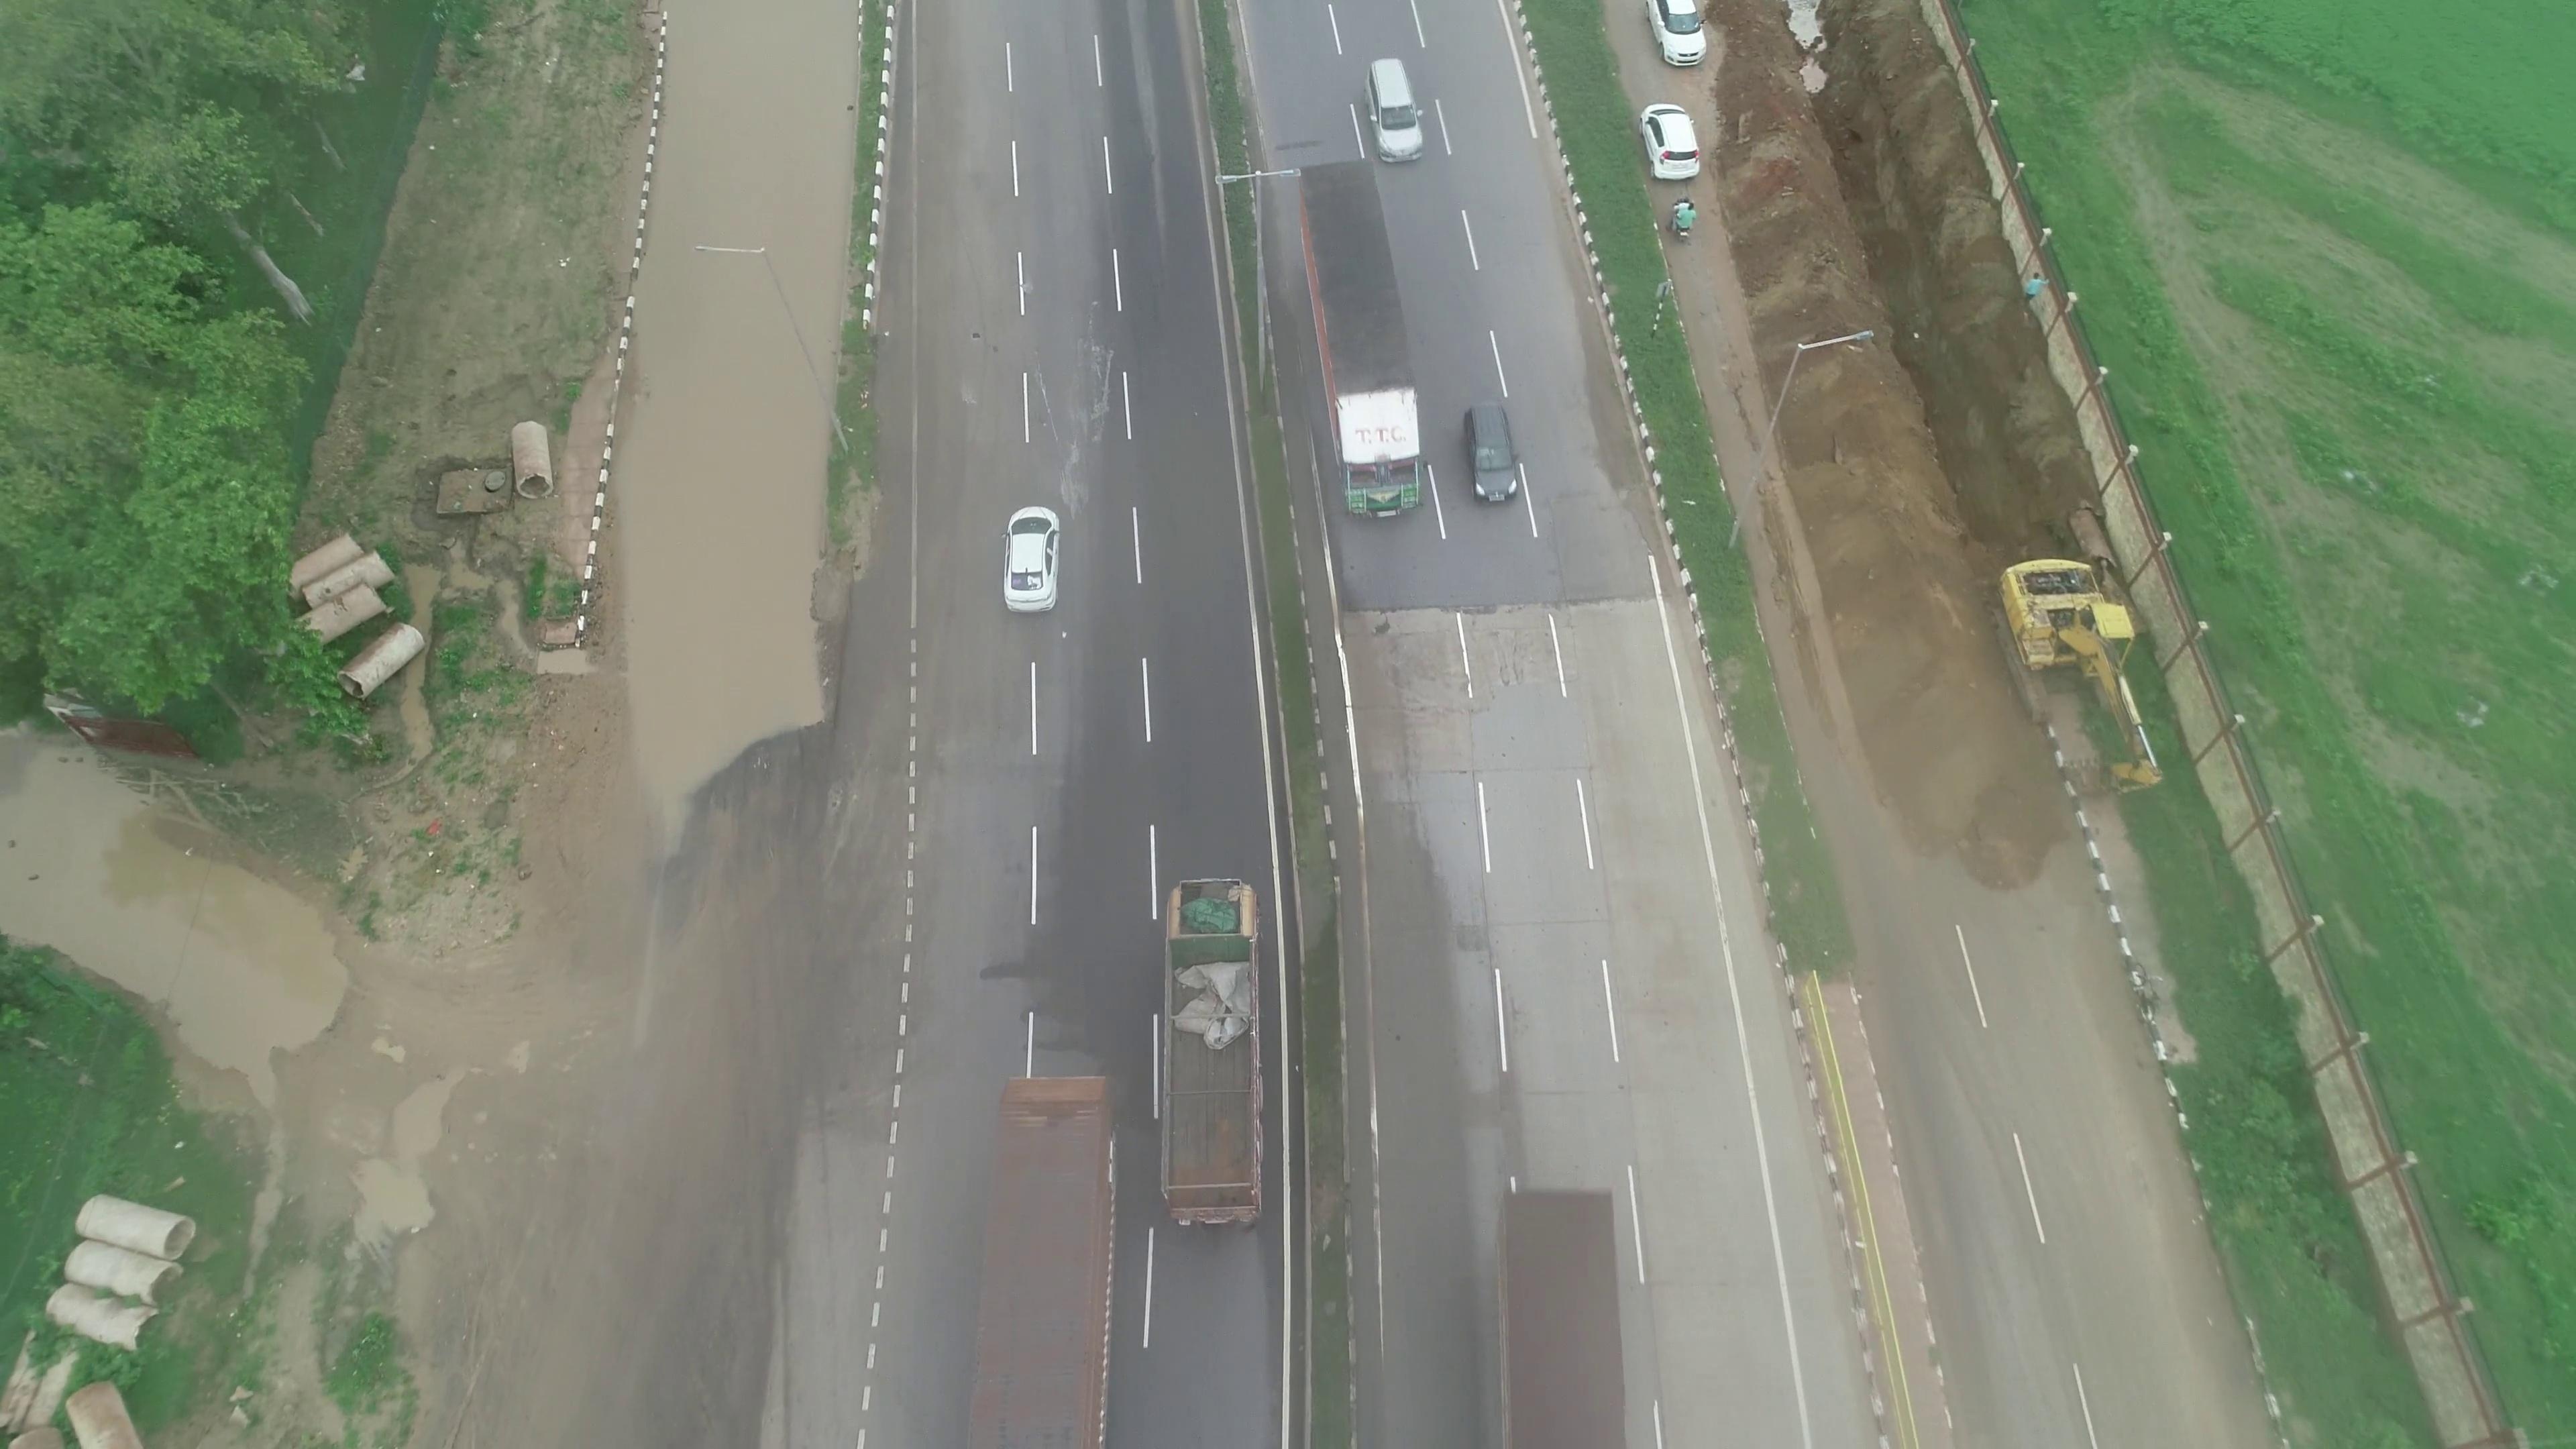Waterlogging: (605, 172, 824, 727)
